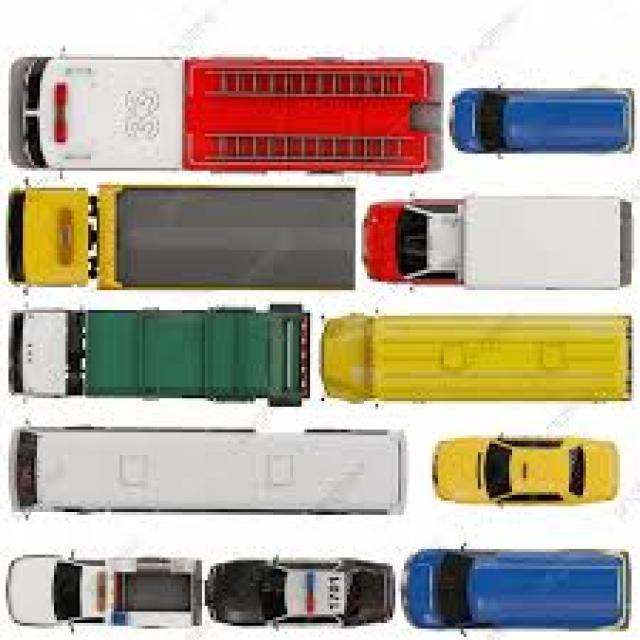truck: (7, 55, 443, 173), (11, 188, 356, 292), (16, 426, 406, 514), (14, 307, 308, 402), (320, 317, 634, 400), (363, 200, 622, 289), (6, 555, 200, 628), (448, 87, 638, 153), (434, 438, 616, 502)
